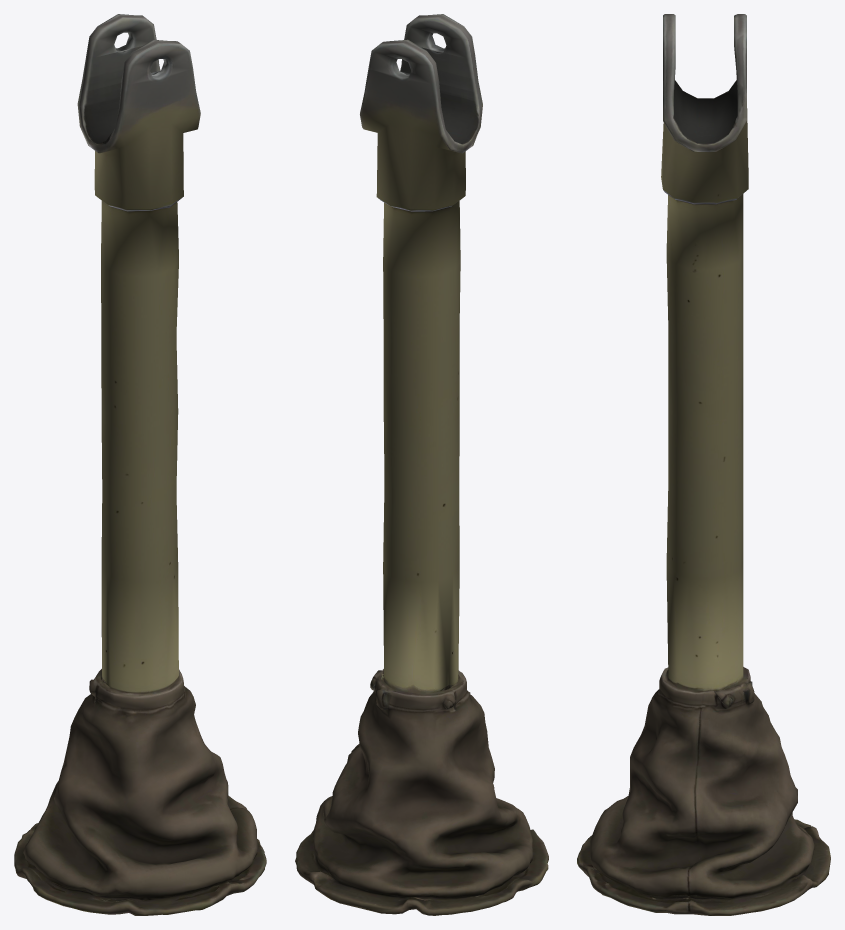
Rendered from ck_column_remesh.glb.
The picture shows the model from 3 angles, left to right: view 1: azimuth 30°, elevation 25°; view 2: azimuth 150°, elevation 25°; view 3: azimuth 270°, elevation 25°; orthographic projection.
Parts seen in each view (by area): view 1: tripo_node_8bfd35b0-14db-4e88-a892-7ef60; view 2: tripo_node_8bfd35b0-14db-4e88-a892-7ef60; view 3: tripo_node_8bfd35b0-14db-4e88-a892-7ef60.
Boxes of the visible parts, x1,y1,x2,y2 form: tripo_node_8bfd35b0-14db-4e88-a892-7ef60: (14,14,266,915); tripo_node_8bfd35b0-14db-4e88-a892-7ef60: (295,14,548,915); tripo_node_8bfd35b0-14db-4e88-a892-7ef60: (577,14,830,915).
Size of the model in its own units: 0.274 by 1 by 0.272.
Materials: 1 (1 with a texture image).
